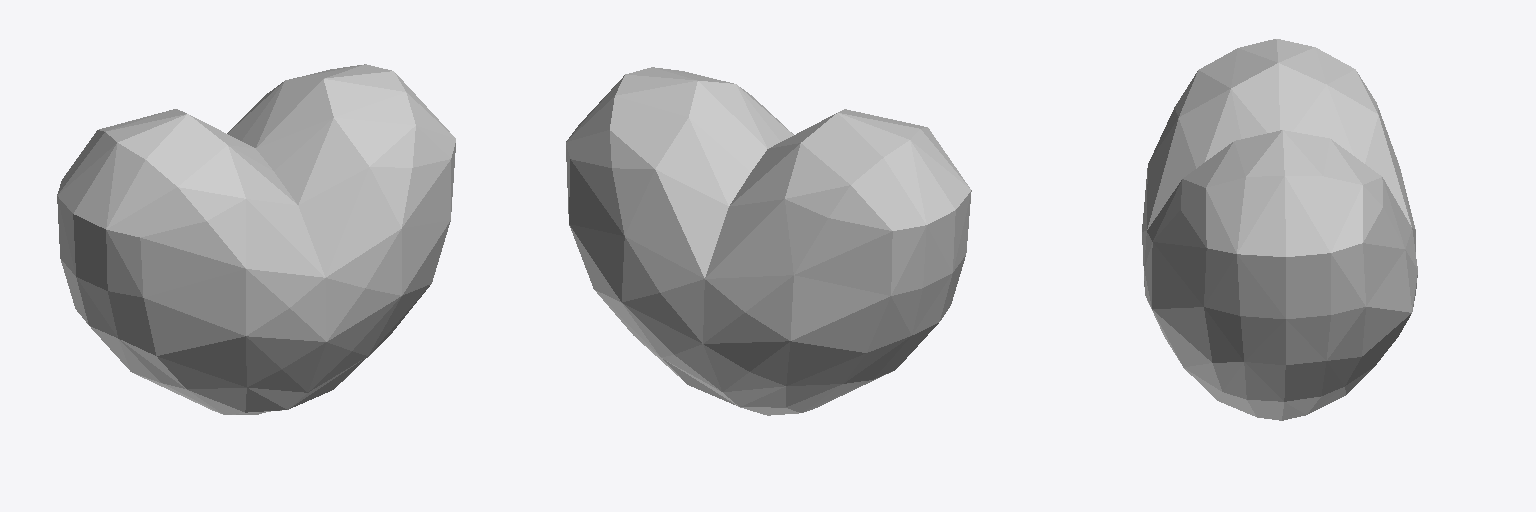
Rendered from Heart.obj.
The picture shows the model from 3 angles: view 1: azimuth 30°, elevation 25°; view 2: azimuth 150°, elevation 25°; view 3: azimuth 270°, elevation 25°; orthographic projection.
Parts seen in each view (by area): view 1: Cube_Material_0; view 2: Cube_Material_0; view 3: Cube_Material_0.
Boxes of the visible parts, box(x1,y1,x2,y2) form: Cube_Material_0: box(57, 64, 455, 414); Cube_Material_0: box(566, 67, 971, 415); Cube_Material_0: box(1142, 39, 1417, 420).
Bounding box in the file's own units: 3.05 × 2.51 × 1.97.